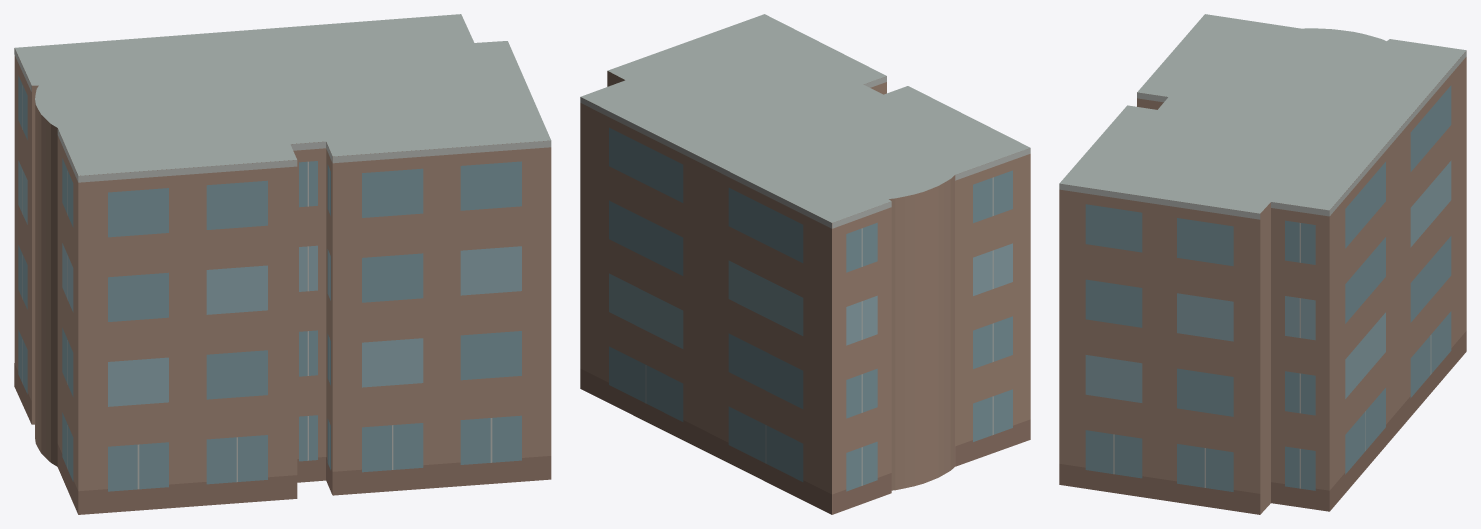
File: survey-upis-32932368.glb
3 renders of one model, left to right at view 1: azimuth 30°, elevation 25°; view 2: azimuth 150°, elevation 25°; view 3: azimuth 270°, elevation 25°, orthographic. The views are drawn at different scales.
Parts seen in each view (by area): view 1: survey-upis-32932368.tmp; view 2: survey-upis-32932368.tmp; view 3: survey-upis-32932368.tmp.
Part boxes in pixels (box(x1,y1,x2,y2)): survey-upis-32932368.tmp: box(14, 14, 551, 514); survey-upis-32932368.tmp: box(580, 14, 1030, 514); survey-upis-32932368.tmp: box(1059, 14, 1466, 514).
Size of the model in its own units: 17.35 by 12.2 by 14.96.
